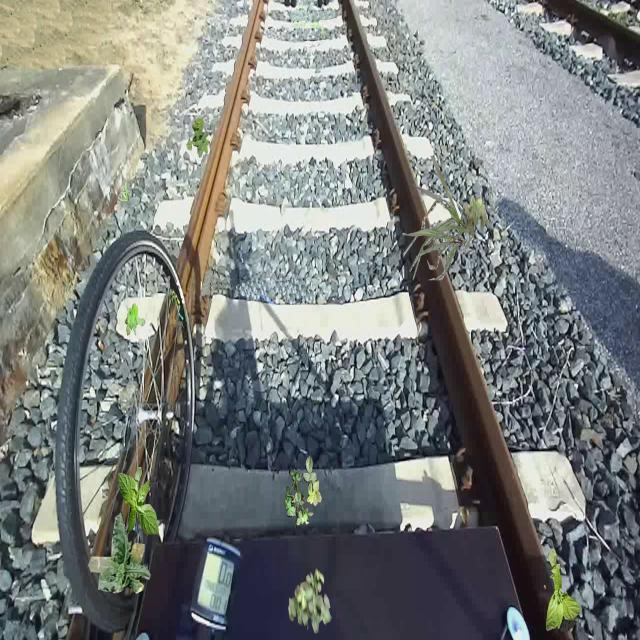Plant: (403, 156, 476, 280), (88, 511, 152, 594), (546, 549, 582, 632), (118, 467, 160, 538), (288, 568, 332, 634), (284, 456, 322, 530), (464, 194, 490, 236), (187, 117, 211, 158), (125, 303, 146, 336), (118, 181, 132, 202)
